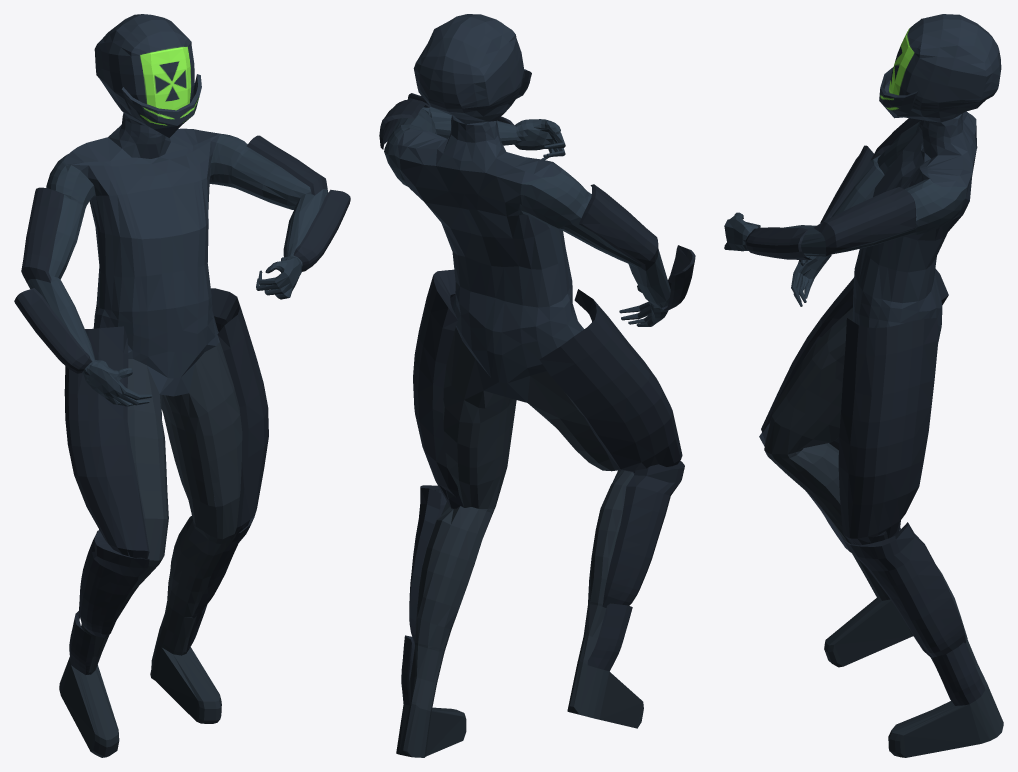
Rendered from Bastion_Hit_000005.obj.
3 views of the same model, side by side, from view 1: azimuth 30°, elevation 25°; view 2: azimuth 150°, elevation 25°; view 3: azimuth 270°, elevation 25° (orthographic). The views are drawn at different scales.
Parts seen in each view (by area): view 1: Cube.002; view 2: Cube.002; view 3: Cube.002.
Boxes of the visible parts, <box> form: Cube.002: <box>14,14,350,757</box>; Cube.002: <box>379,14,695,757</box>; Cube.002: <box>724,14,1003,757</box>.
Size of the model in its own units: 1.71 by 3.78 by 1.34.
